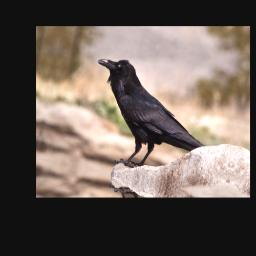Crow: (79, 51, 220, 180)
